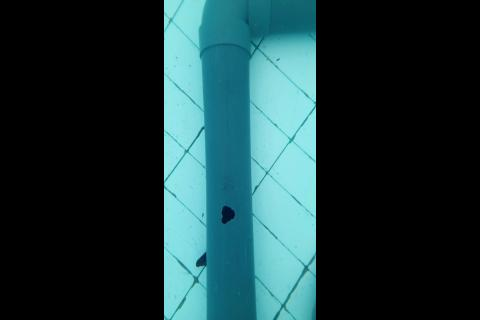kebocoran: (220, 204, 236, 225)
